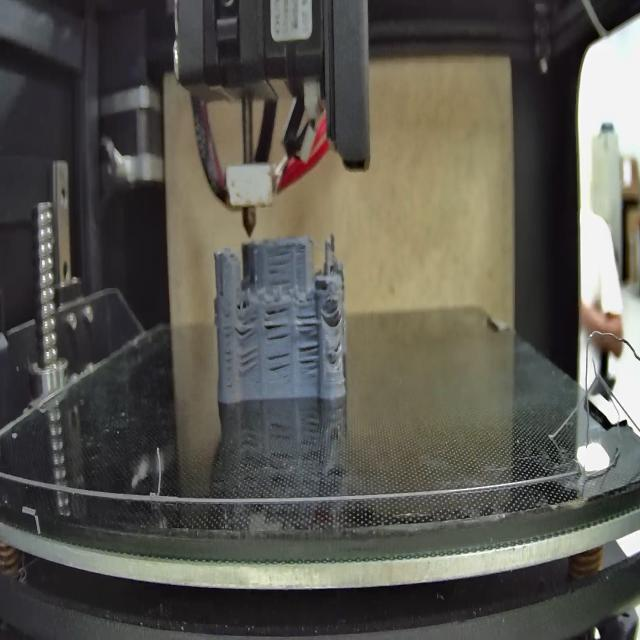cracks: (266, 244, 295, 286), (265, 306, 290, 342), (296, 340, 319, 378), (267, 350, 292, 378), (237, 347, 260, 375), (224, 320, 233, 391), (235, 316, 258, 342), (296, 310, 317, 336), (328, 302, 343, 324), (333, 338, 341, 354), (220, 282, 225, 298)
